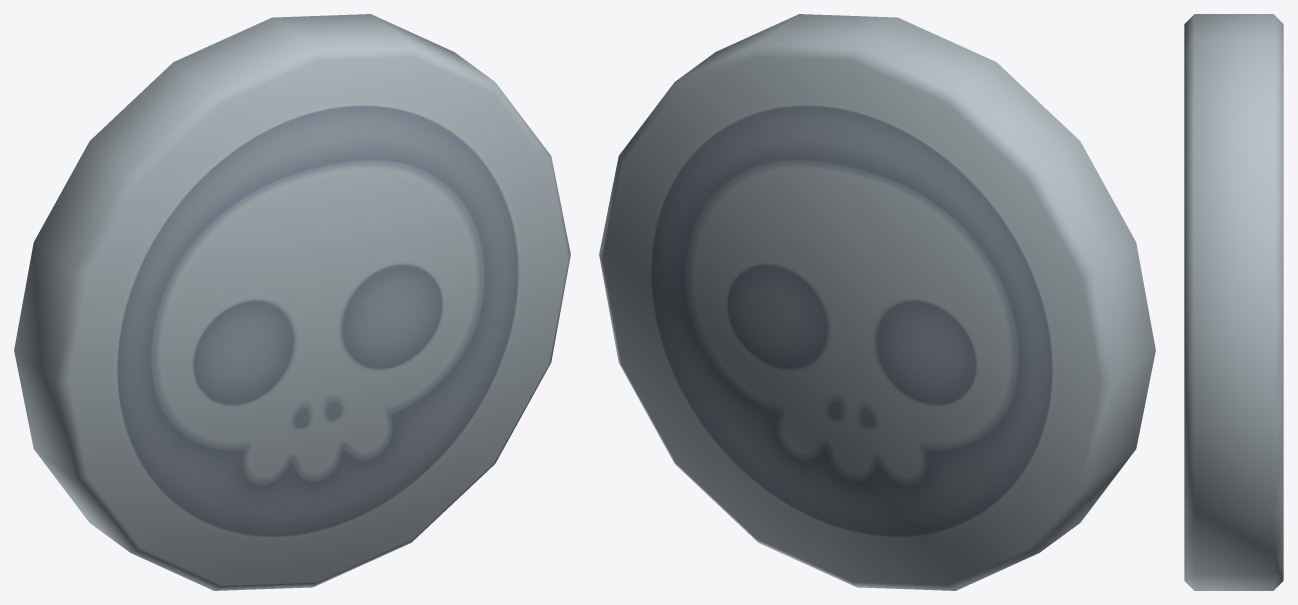
File: Coin_Skull_Silver.FBX
The picture shows the model from 3 angles, left to right: view 1: azimuth 30°, elevation 25°; view 2: azimuth 150°, elevation 25°; view 3: azimuth 270°, elevation 25°; orthographic projection. The views are drawn at different scales.
Visible parts, largest first — view 1: Coin_Skull_Silver; view 2: Coin_Skull_Silver; view 3: Coin_Skull_Silver.
Boxes of the visible parts, x1,y1,x2,y2 form: Coin_Skull_Silver: (14, 14, 570, 590); Coin_Skull_Silver: (599, 14, 1155, 590); Coin_Skull_Silver: (1184, 14, 1283, 590).
Bounding box in the file's own units: 70 × 70 × 12.
1 material, 1 textured.
